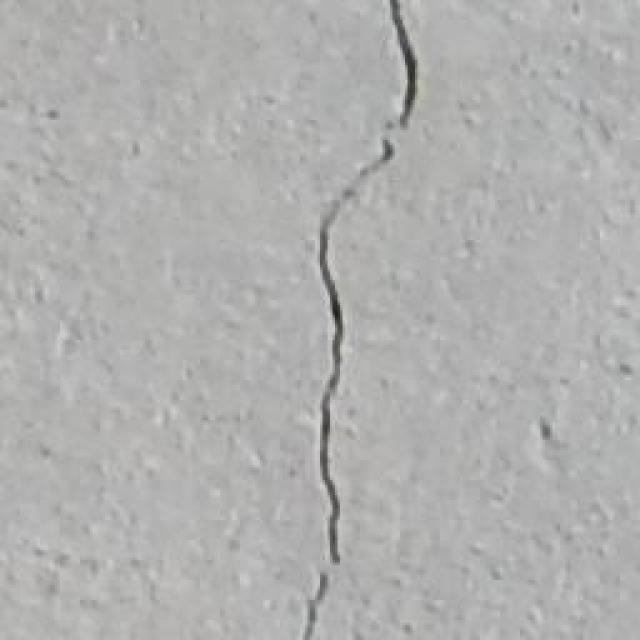concrete-crack: (297, 0, 423, 640)
